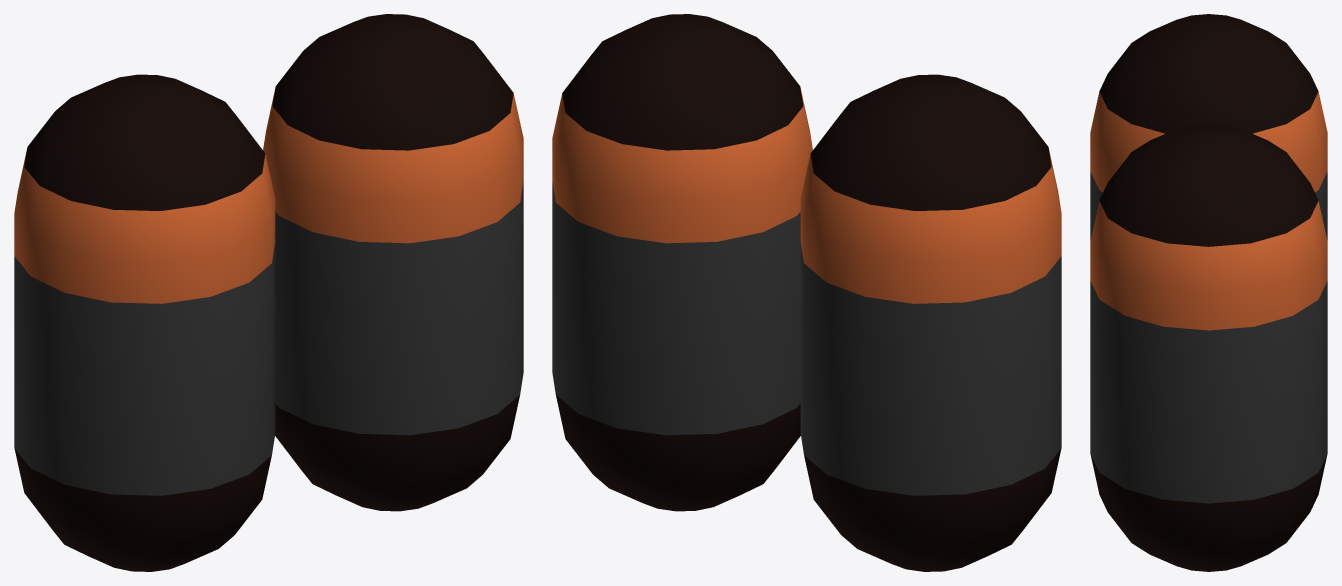
The model's file is guests.obj.
3 renders of one model, left to right at view 1: azimuth 30°, elevation 25°; view 2: azimuth 150°, elevation 25°; view 3: azimuth 270°, elevation 25°, orthographic. The views are drawn at different scales.
Visible parts, largest first — view 1: Guests; view 2: Guests; view 3: Guests.
Boxes of the visible parts, x1,y1,x2,y2 form: Guests: [14, 14, 523, 571]; Guests: [552, 14, 1061, 571]; Guests: [1090, 14, 1327, 571].
Bounding box in the file's own units: 0.3678 × 0.3494 × 0.1761.
